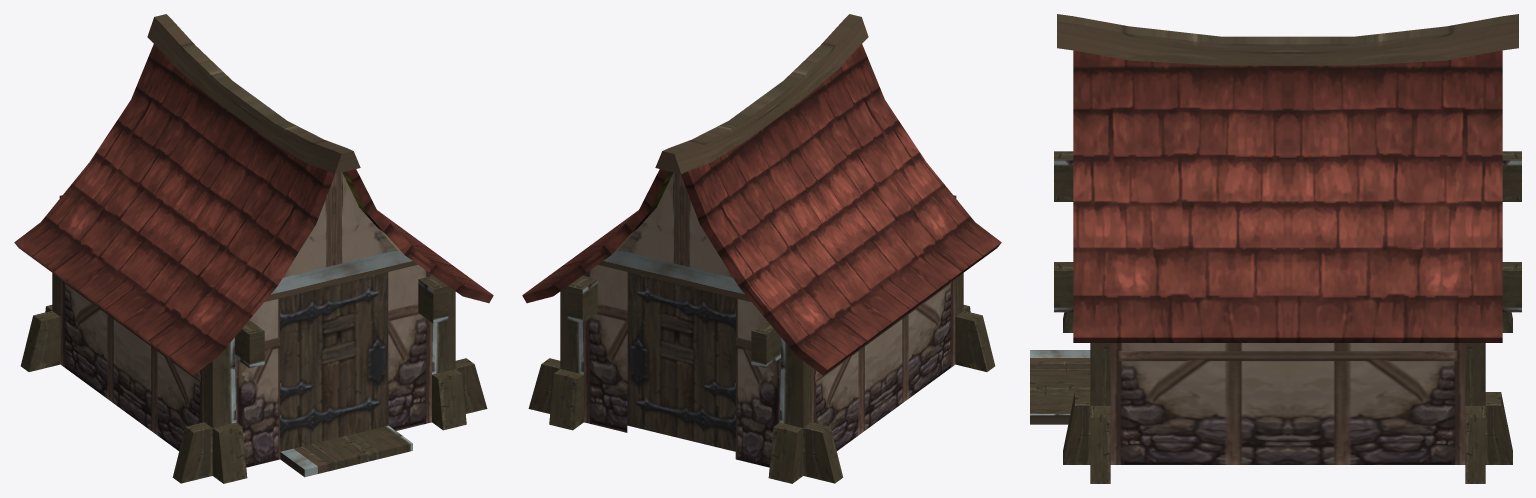
File: bfcs_fangzi_03.FBX
3 views of the same model, side by side, from view 1: azimuth 30°, elevation 25°; view 2: azimuth 150°, elevation 25°; view 3: azimuth 270°, elevation 25° (orthographic). The views are drawn at different scales.
Visible parts, largest first — view 1: bfcs_fangzi_03; view 2: bfcs_fangzi_03; view 3: bfcs_fangzi_03.
Boxes of the visible parts, left/top/right/bottom form: bfcs_fangzi_03: left=14, top=14, right=493, bottom=483; bfcs_fangzi_03: left=522, top=14, right=1001, bottom=483; bfcs_fangzi_03: left=1030, top=14, right=1521, bottom=483.
Size of the model in its own units: 280 by 265 by 315.
